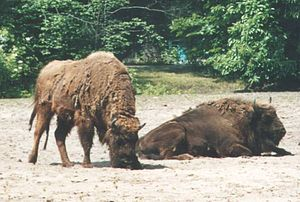zubr: (20, 42, 152, 185), (139, 84, 294, 170)
